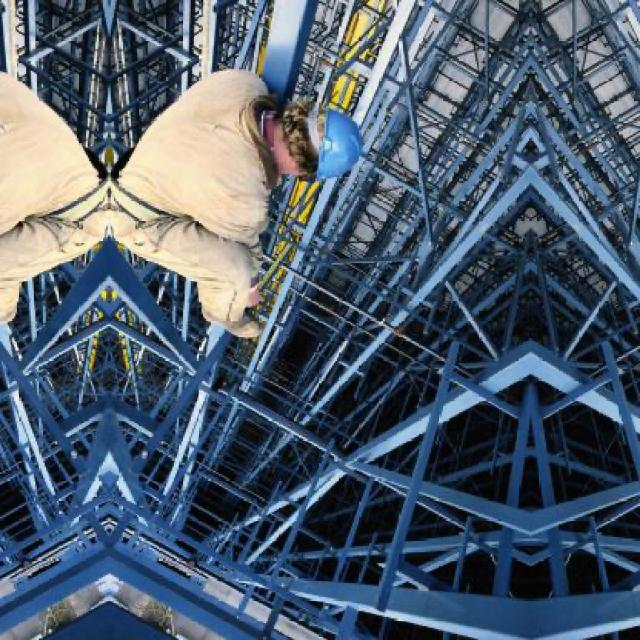con casco: (228, 89, 424, 211)
